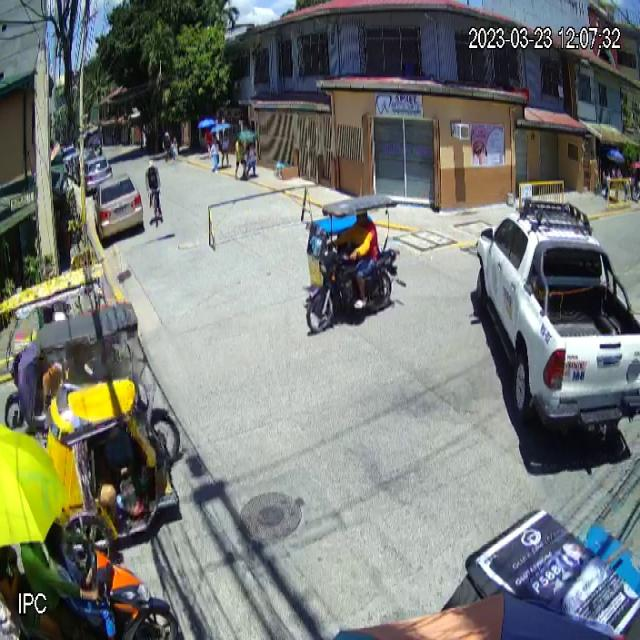Car: (475, 194, 639, 426), (94, 173, 144, 245)
Tricycle: (38, 303, 180, 578), (302, 192, 400, 335)
